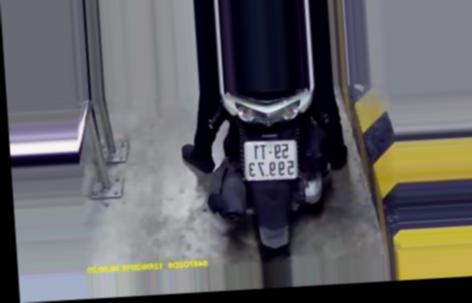License_Plate: (238, 138, 304, 182)
